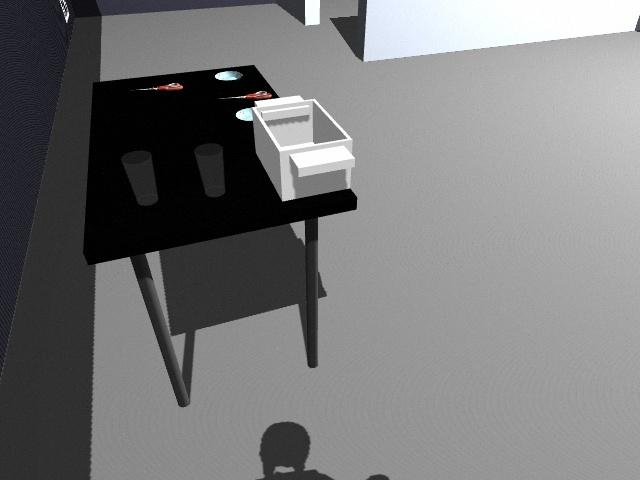cup: (121, 150, 158, 204), (193, 143, 224, 197)
plate: (214, 70, 243, 81), (236, 108, 254, 122)
scissors: (130, 82, 186, 92), (218, 91, 273, 101)
